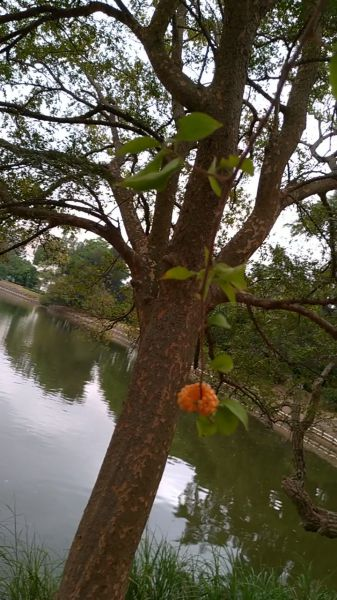eggs: (174, 377, 223, 419)
